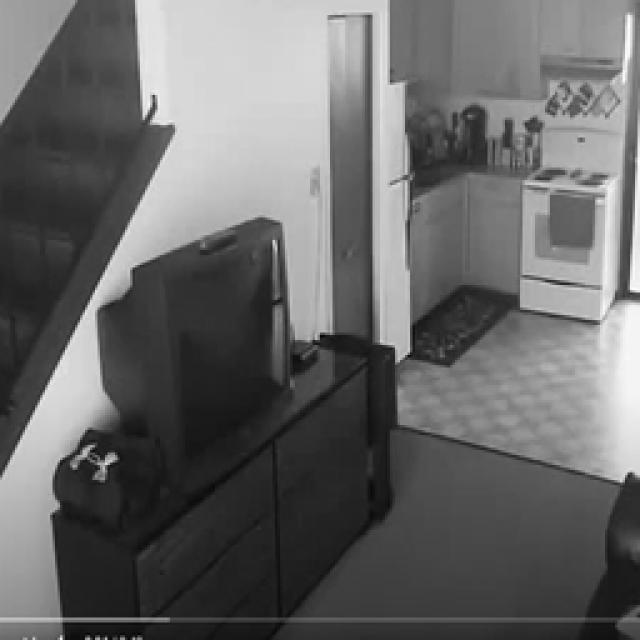Invader: (582, 460, 640, 638)
